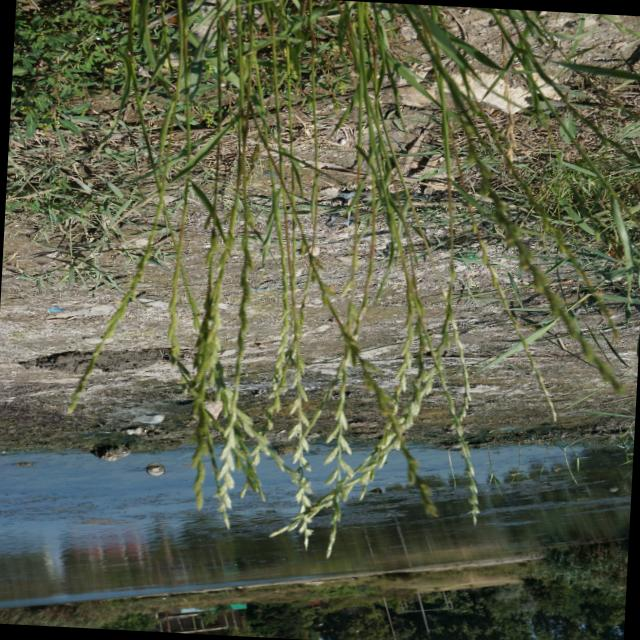Lolium: (456, 140, 634, 392), (268, 296, 417, 545), (358, 304, 457, 506), (316, 198, 369, 556), (282, 224, 331, 550), (210, 192, 256, 522)
